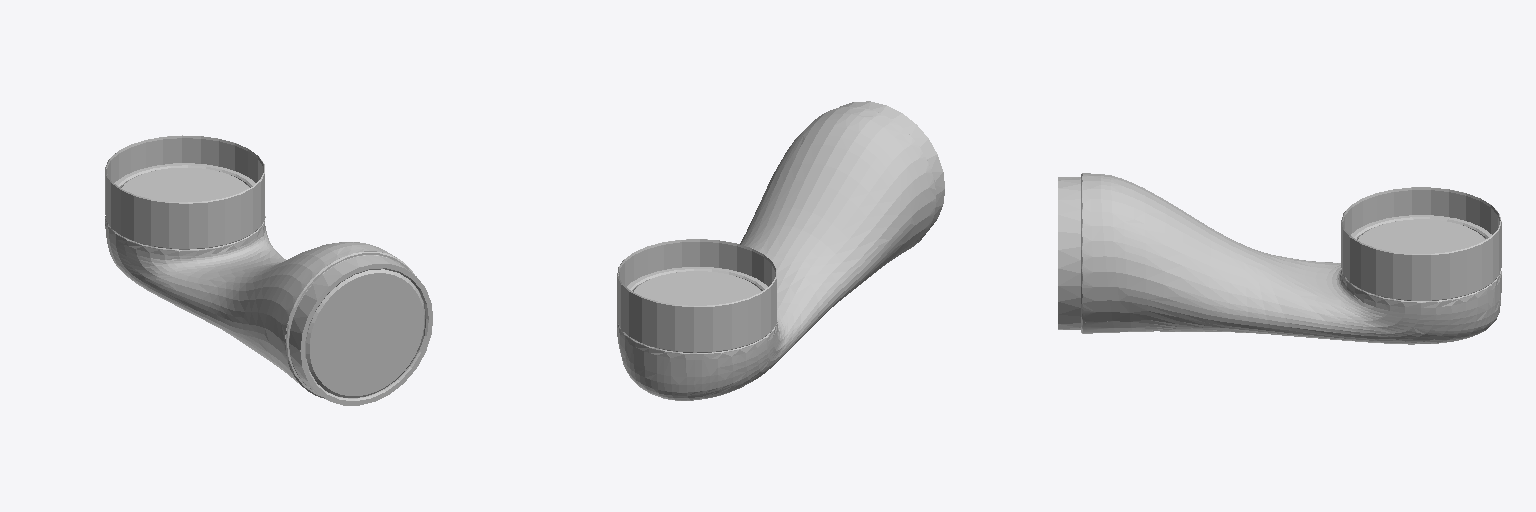
The model's file is half_arm_2_link_visuals_mesh_0.obj.
3 renders of one model, left to right at view 1: azimuth 30°, elevation 25°; view 2: azimuth 150°, elevation 25°; view 3: azimuth 270°, elevation 25°, orthographic.
Bounding box in the file's own units: 0.092 × 0.095 × 0.254.